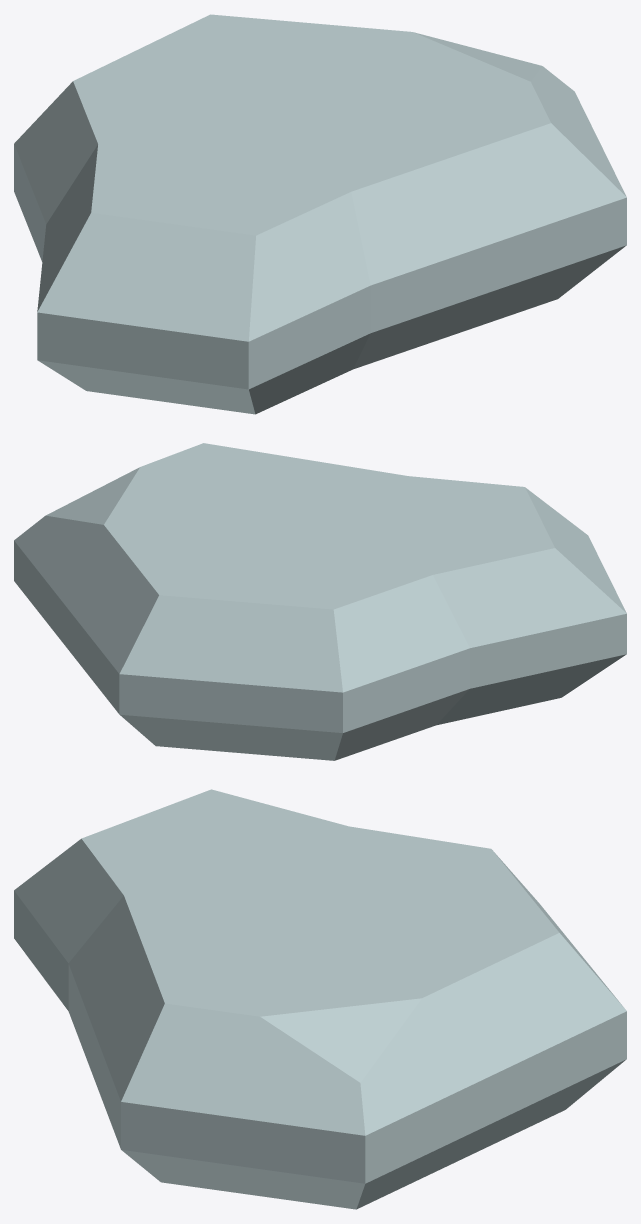
The model's file is stone_largeE.glb.
The picture shows the model from 3 angles, top to bottom: view 1: azimuth 30°, elevation 25°; view 2: azimuth 150°, elevation 25°; view 3: azimuth 270°, elevation 25°; orthographic projection. The views are drawn at different scales.
Visible parts, largest first — view 1: stone_largeE; view 2: stone_largeE; view 3: stone_largeE.
Part boxes in pixels (left/top/right/bottom): stone_largeE: left=14, top=14, right=626, bottom=414; stone_largeE: left=14, top=443, right=626, bottom=760; stone_largeE: left=14, top=789, right=626, bottom=1209.
Bounding box in the file's own units: 1.1 × 0.2922 × 0.9199.
